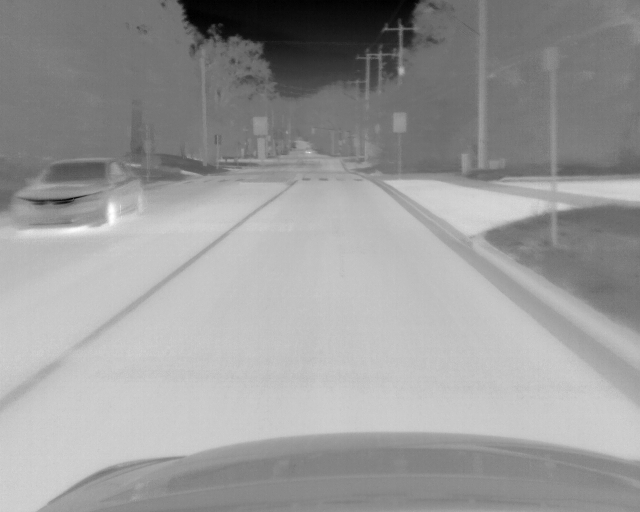car: (7, 157, 144, 232)
